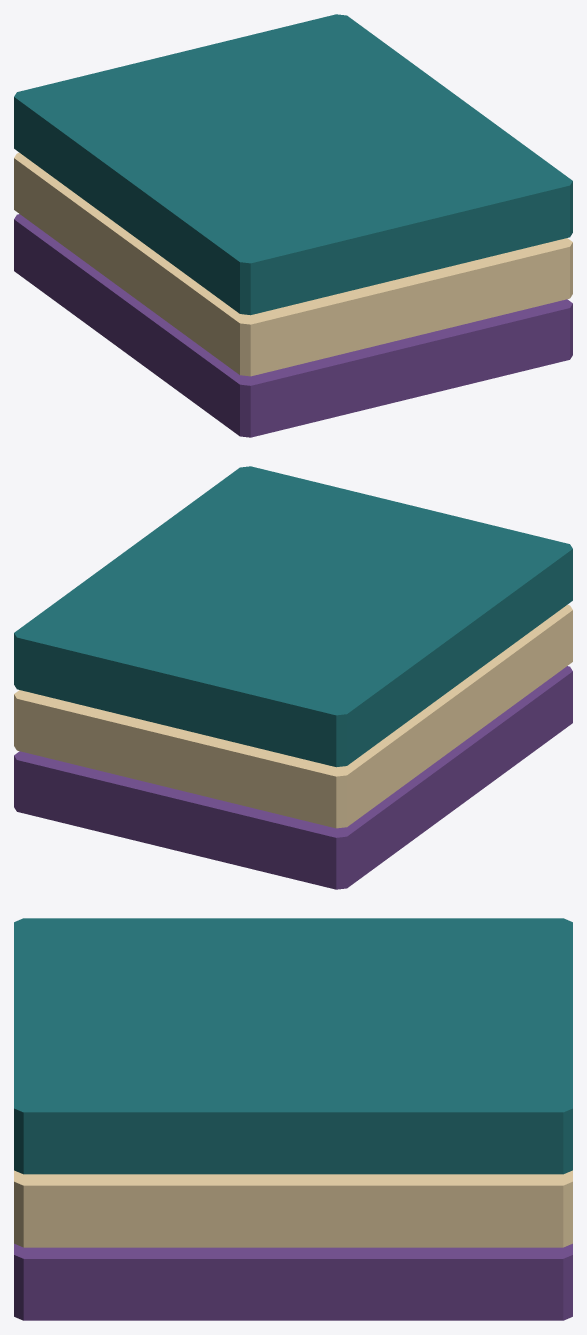
File: Books.fbx
3 views of the same model, one above another, from view 1: azimuth 30°, elevation 25°; view 2: azimuth 150°, elevation 25°; view 3: azimuth 270°, elevation 25° (orthographic). The views are drawn at different scales.
Parts seen in each view (by area): view 1: Books.005; view 2: Books.005; view 3: Books.005.
Boxes of the visible parts, bbox=[...] form: Books.005: bbox=[14, 14, 572, 437]; Books.005: bbox=[14, 466, 572, 889]; Books.005: bbox=[14, 918, 572, 1320].
Size of the model in its own units: 37 by 18.5 by 45.
